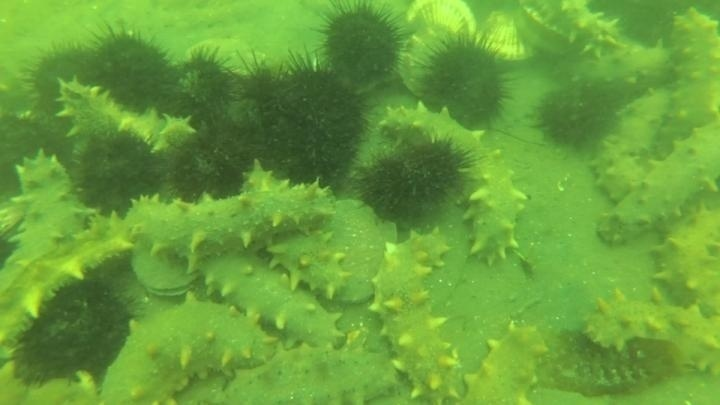echinus: (253, 53, 374, 191), (7, 272, 142, 390), (353, 135, 474, 232), (410, 31, 517, 132), (70, 128, 168, 219), (535, 331, 661, 399), (84, 24, 178, 115), (314, 2, 410, 90), (1, 109, 82, 195), (168, 126, 251, 206), (532, 80, 622, 153), (226, 53, 307, 134), (22, 38, 107, 115), (592, 1, 688, 55), (207, 94, 273, 164)
holothurian: (376, 101, 531, 256), (125, 165, 339, 265), (1, 215, 122, 387), (99, 296, 280, 401), (368, 228, 467, 405), (185, 246, 348, 353), (593, 108, 719, 246), (578, 288, 719, 378), (220, 338, 406, 405), (53, 75, 196, 157), (4, 149, 82, 273), (602, 86, 676, 196), (650, 201, 720, 316), (458, 319, 550, 404), (233, 158, 337, 233), (664, 5, 720, 138), (262, 230, 355, 305), (517, 1, 625, 61), (573, 41, 682, 98), (1, 358, 32, 405)
scallop: (223, 338, 405, 405), (515, 1, 624, 62), (460, 2, 561, 67), (180, 33, 269, 83), (400, 1, 480, 52), (128, 243, 199, 300), (394, 30, 447, 101), (11, 366, 100, 403)
